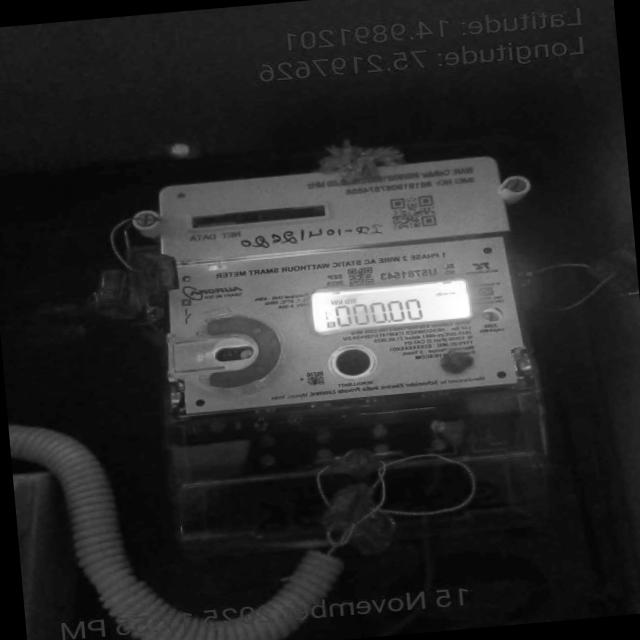meter: (147, 145, 524, 432)
